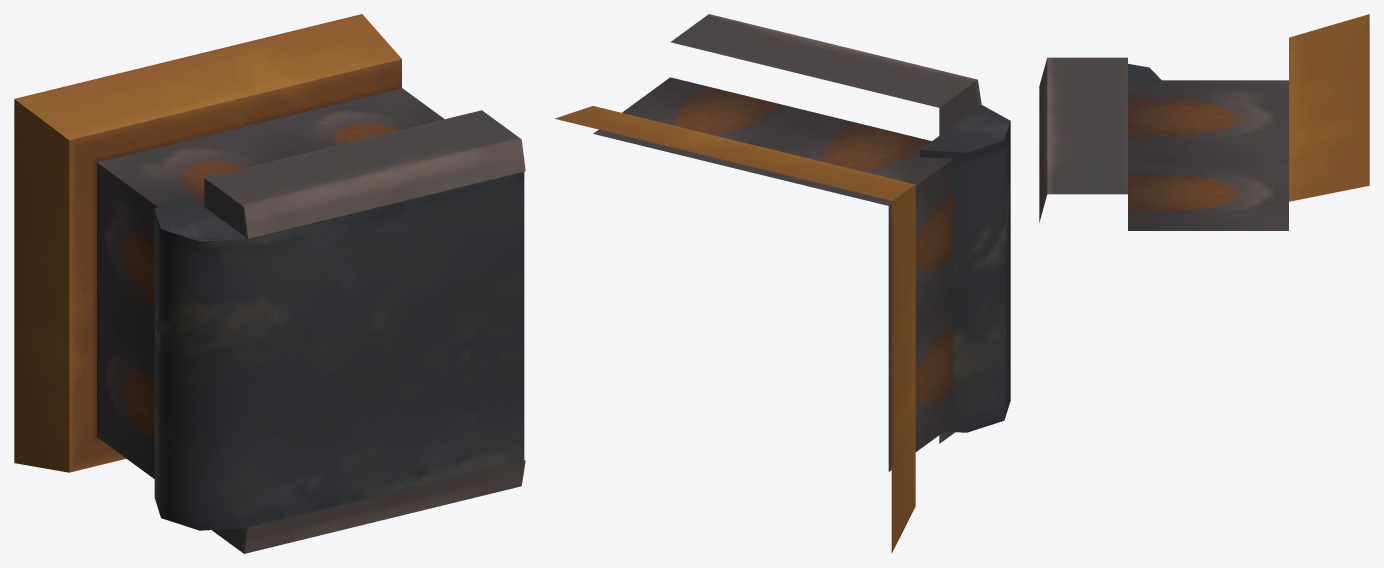
The model's file is conveyorbelt_cap_left.glb.
3 renders of one model, left to right at view 1: azimuth 30°, elevation 25°; view 2: azimuth 150°, elevation 25°; view 3: azimuth 270°, elevation 25°, orthographic. The views are drawn at different scales.
Parts seen in each view (by area): view 1: factory.conveyorbelt_cap_left-MeshNodes["conveyor_base"], factory.conveyorbelt_cap_left-MeshNodes["belt_on"]; view 2: factory.conveyorbelt_cap_left-MeshNodes["conveyor_base"], factory.conveyorbelt_cap_left-MeshNodes["belt_on"]; view 3: factory.conveyorbelt_cap_left-MeshNodes["conveyor_base"], factory.conveyorbelt_cap_left-MeshNodes["belt_on"].
Boxes of the visible parts, box(x1,y1,x2,y2) form: factory.conveyorbelt_cap_left-MeshNodes["conveyor_base"]: box(14, 14, 525, 553); factory.conveyorbelt_cap_left-MeshNodes["belt_on"]: box(154, 171, 524, 530); factory.conveyorbelt_cap_left-MeshNodes["conveyor_base"]: box(555, 14, 981, 553); factory.conveyorbelt_cap_left-MeshNodes["belt_on"]: box(920, 105, 1010, 432); factory.conveyorbelt_cap_left-MeshNodes["conveyor_base"]: box(1039, 14, 1369, 230); factory.conveyorbelt_cap_left-MeshNodes["belt_on"]: box(1128, 63, 1167, 86).
Bounding box in the file's own units: 1.01 × 1.01 × 0.82.
2 materials, 2 textured.
